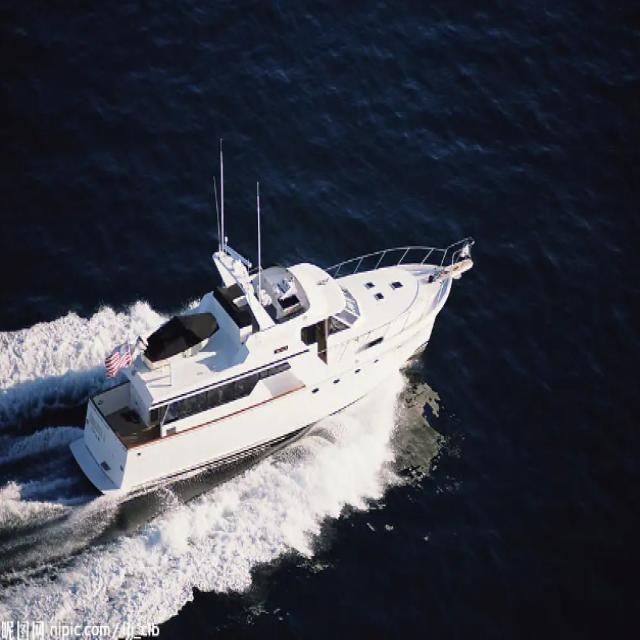houseboat: (62, 154, 479, 526)
